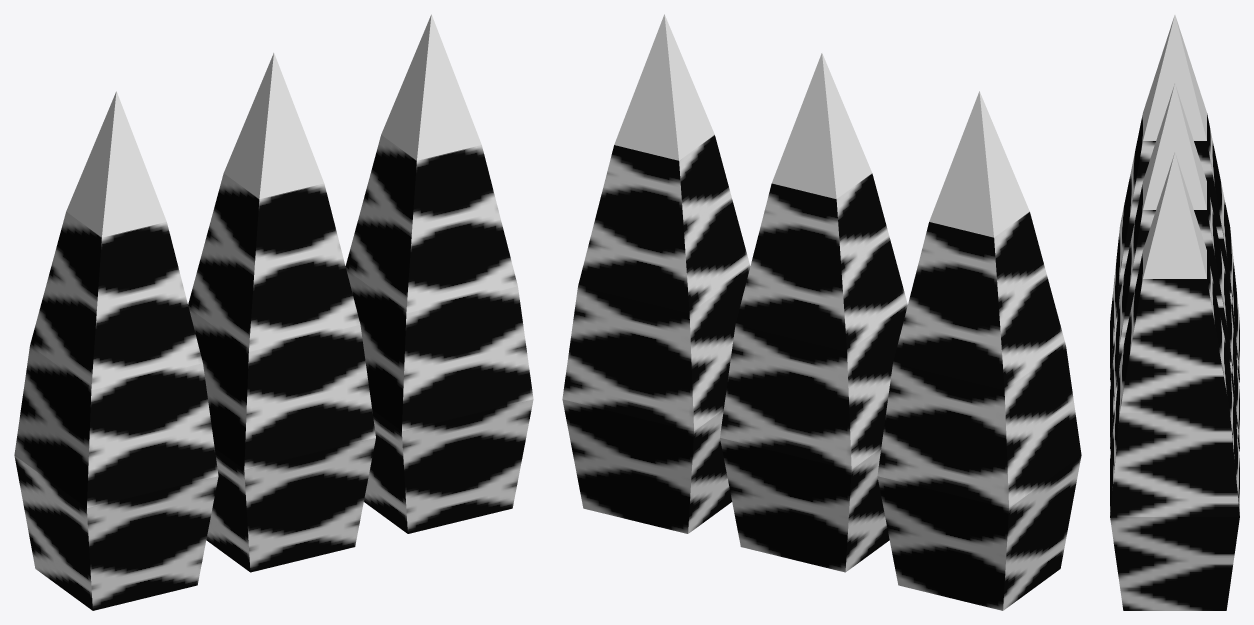
Rendered from Bullets.fbx.
The picture shows the model from 3 angles, left to right: view 1: azimuth 30°, elevation 25°; view 2: azimuth 150°, elevation 25°; view 3: azimuth 270°, elevation 25°; orthographic projection. The views are drawn at different scales.
Visible parts, largest first — view 1: Ammo; view 2: Ammo; view 3: Ammo.
Boxes of the visible parts, x1,y1,x2,y2 form: Ammo: [14, 14, 533, 610]; Ammo: [562, 14, 1081, 610]; Ammo: [1110, 15, 1239, 610].
Size of the model in its own units: 121 by 126 by 33.97.
